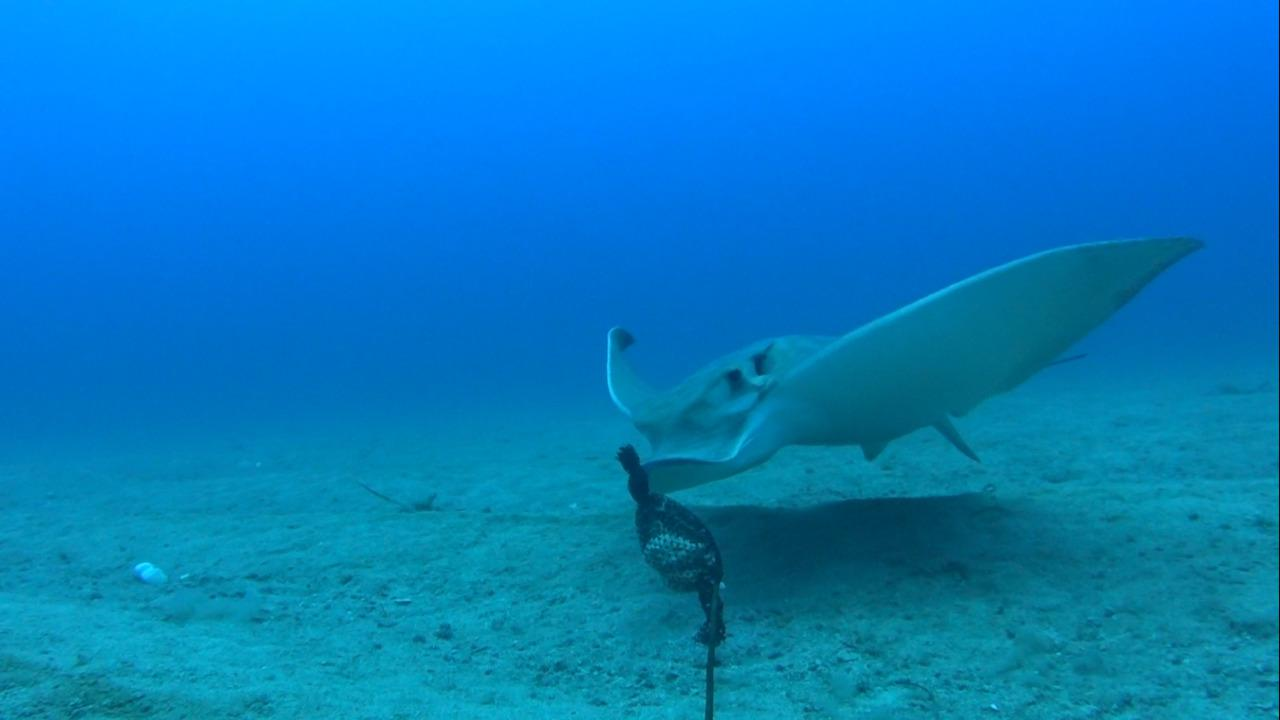myliobatis: (596, 226, 1213, 502)
